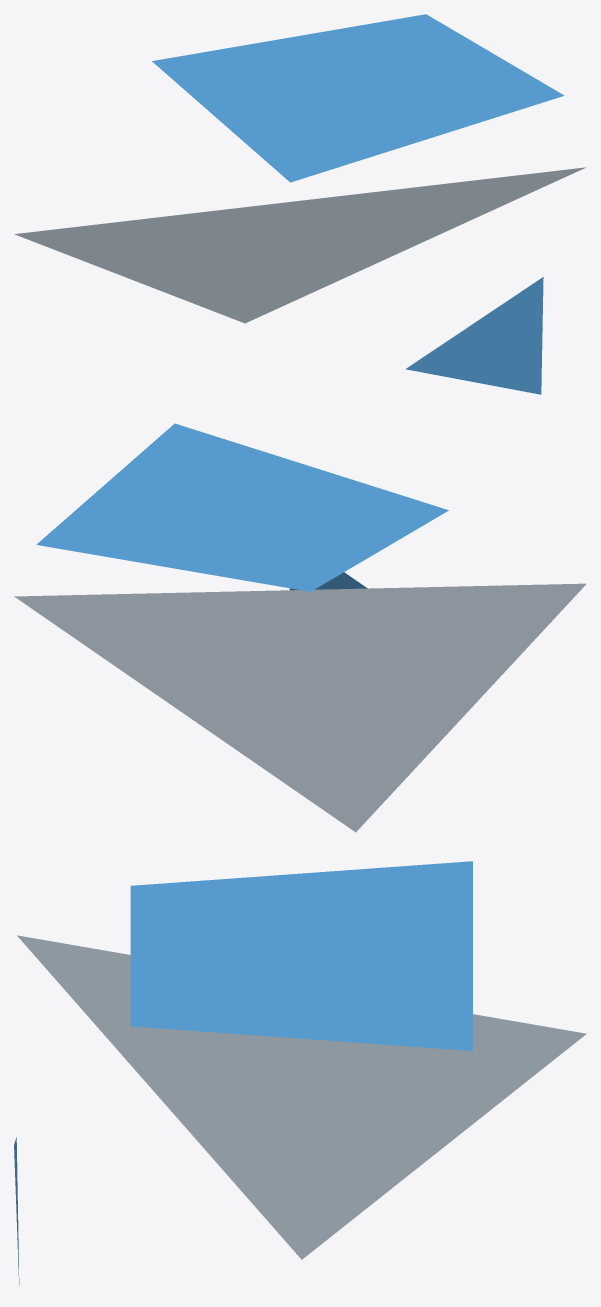
Rendered from AL_MCV_MobileNode_LOD2.glb.
3 views of the same model, one above another, from view 1: azimuth 30°, elevation 25°; view 2: azimuth 150°, elevation 25°; view 3: azimuth 270°, elevation 25° (orthographic). The views are drawn at different scales.
Parts seen in each view (by area): view 1: EntranceGate; view 2: EntranceGate; view 3: EntranceGate.
Part boxes in pixels (x1,y1,x2,y2): EntranceGate: (14, 14, 585, 394); EntranceGate: (14, 423, 586, 832); EntranceGate: (14, 861, 586, 1285).
Bounding box in the file's own units: 800 × 417 × 703.
